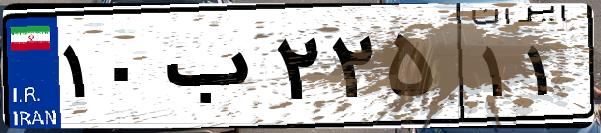0: (110, 28, 158, 98)
1: (57, 26, 110, 100), (475, 38, 525, 113), (525, 38, 570, 115)
2: (270, 28, 330, 110), (330, 28, 385, 110)
5: (385, 28, 445, 110)
ب: (158, 20, 270, 120)
